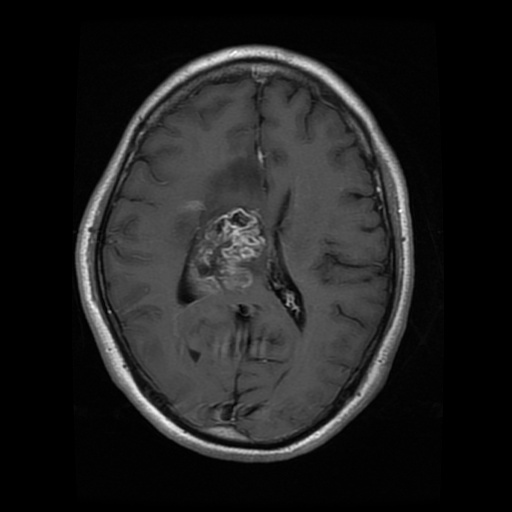glioma: (173, 158, 272, 297)
